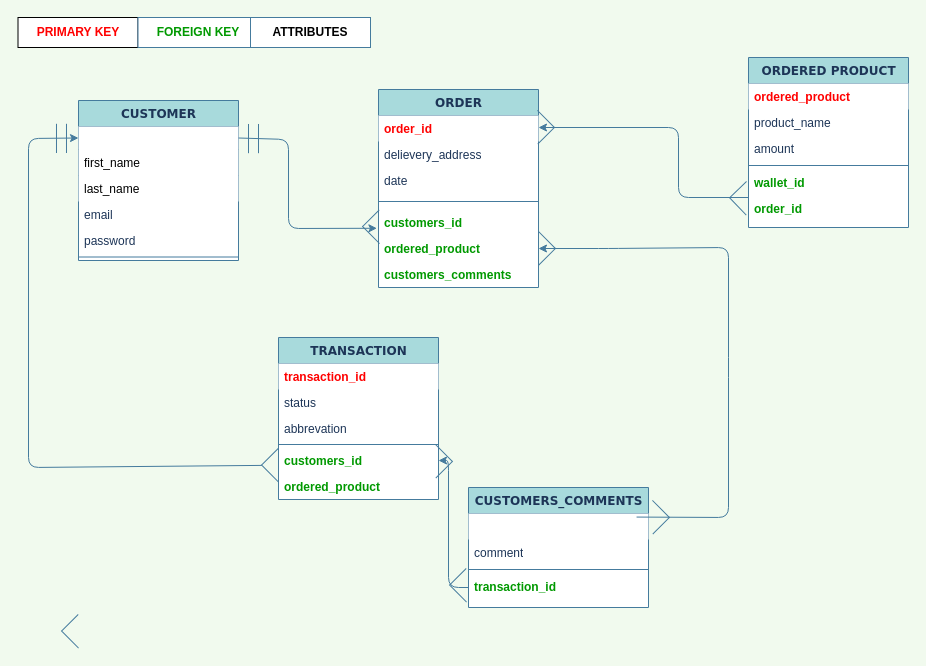
The diagram is 926 pixels wide and 666 high, and some of its shapes have lost their labels. Each missing label, with the centre of its shape:
"comment_id" goes at point (558, 526).
"customer_id" goes at point (158, 137).
